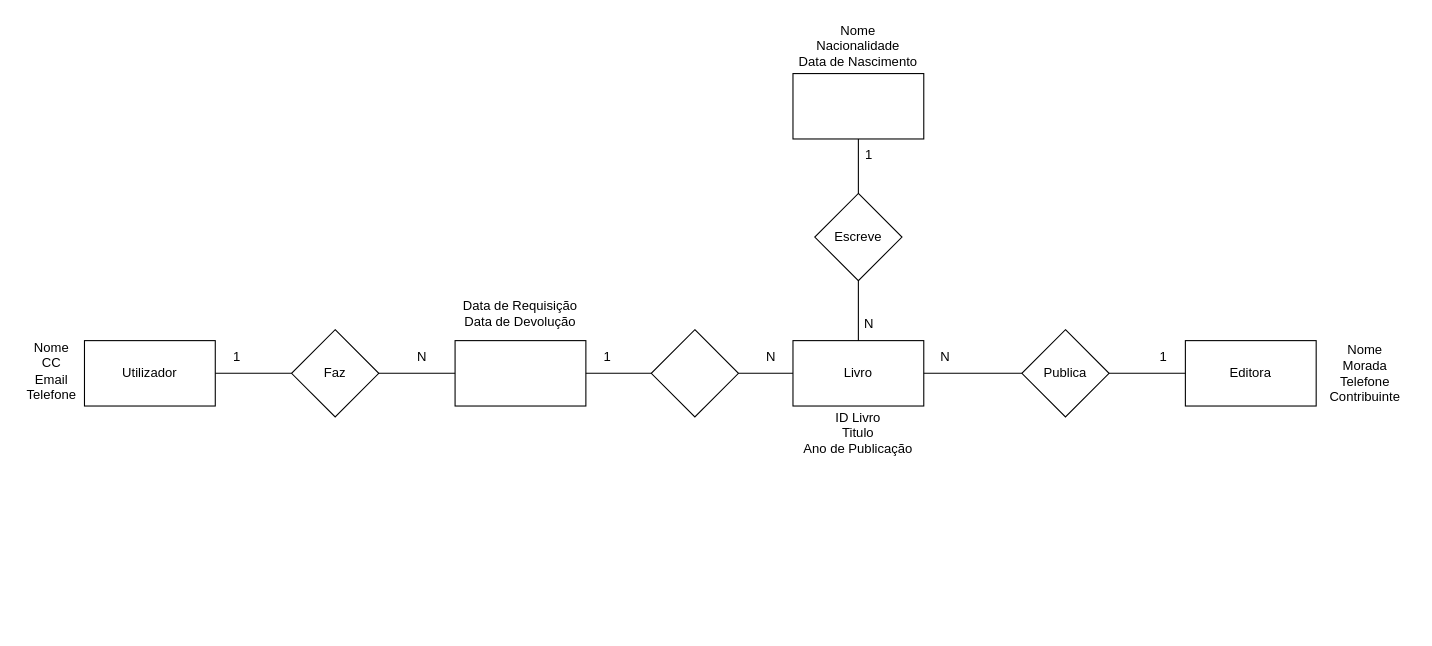
The diagram is 1432 pixels wide and 646 high, and some of its shapes have lost their labels. The centre of each missing label's shape, as x and y in pixels:
"Autor" goes at point 858,105.
"Requisição" goes at point 520,373.
"Tem" goes at point 694,373.
